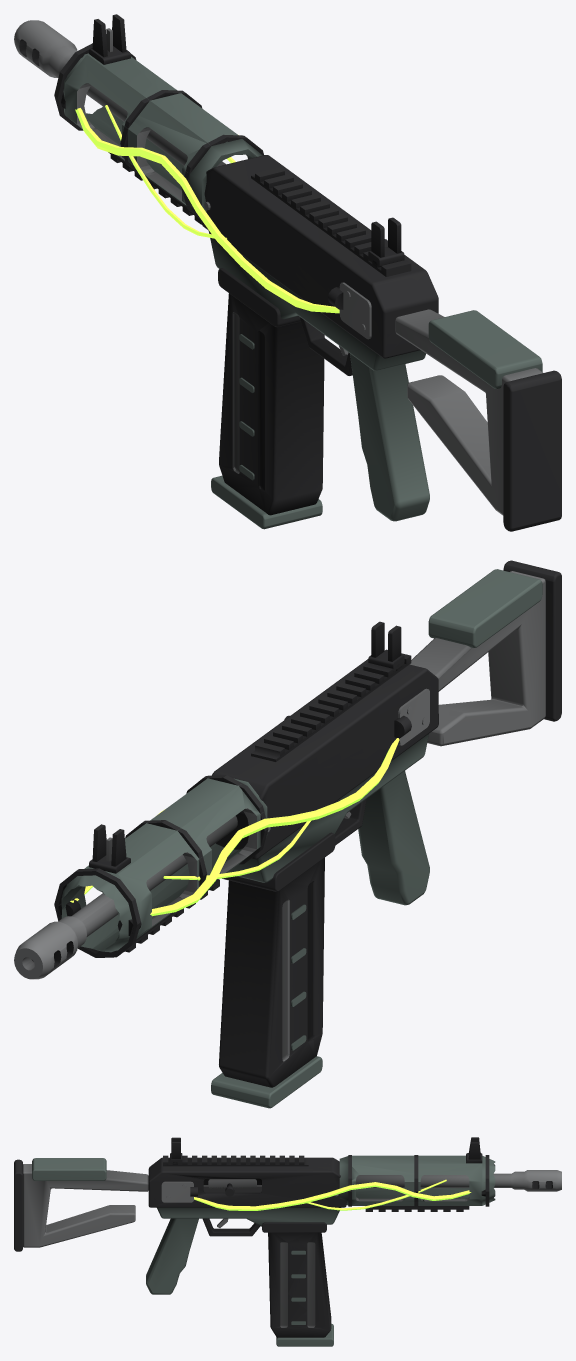
File: synapse.glb
The picture shows the model from 3 angles, top to bottom: view 1: azimuth 30°, elevation 25°; view 2: azimuth 150°, elevation 25°; view 3: azimuth 270°, elevation 25°; orthographic projection. The views are drawn at different scales.
Parts seen in each view (by area): view 1: Receiver, Stock, Magazine, Grip, Cabling, Barrel, IronSights; view 2: Receiver, Magazine, Stock, Grip, Barrel, Cabling, IronSights; view 3: Receiver, Stock, Magazine, Grip, Barrel, Cabling, IronSights, Bolt.
Boxes of the visible parts, x1,y1,x2,y2 form: Receiver: (54, 43, 438, 375); Stock: (395, 309, 561, 531); Magazine: (211, 293, 324, 529); Grip: (350, 353, 429, 521); Cabling: (75, 105, 339, 313); Barrel: (14, 20, 225, 166); IronSights: (89, 14, 404, 266); Receiver: (54, 649, 438, 957); Magazine: (211, 858, 324, 1108); Stock: (410, 560, 561, 746); Grip: (358, 771, 429, 905); Barrel: (14, 815, 237, 979); Cabling: (70, 738, 399, 916); IronSights: (89, 621, 404, 873); Receiver: (148, 1155, 495, 1236); Stock: (14, 1158, 148, 1251); Magazine: (268, 1232, 333, 1346); Grip: (146, 1218, 198, 1294); Barrel: (356, 1170, 561, 1191); Cabling: (194, 1179, 471, 1210); IronSights: (170, 1137, 482, 1163); Bolt: (208, 1179, 256, 1196).
Size of the model in its own units: 0.1016 by 0.339 by 0.846.
